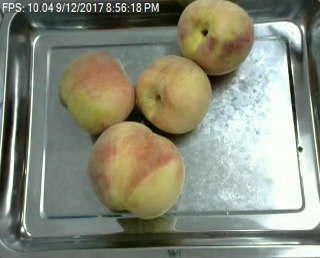Peach: (87, 121, 184, 219), (60, 48, 137, 134), (136, 54, 211, 135), (174, 0, 254, 75)
